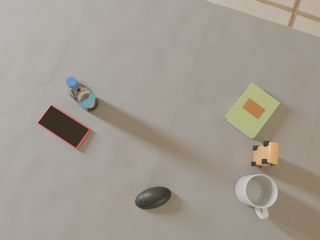book: (224, 83, 280, 139)
bottle: (66, 77, 98, 111)
cup: (235, 174, 278, 219)
mouse: (135, 187, 171, 209)
phone: (37, 105, 90, 149)
toy_car: (251, 141, 279, 167)
